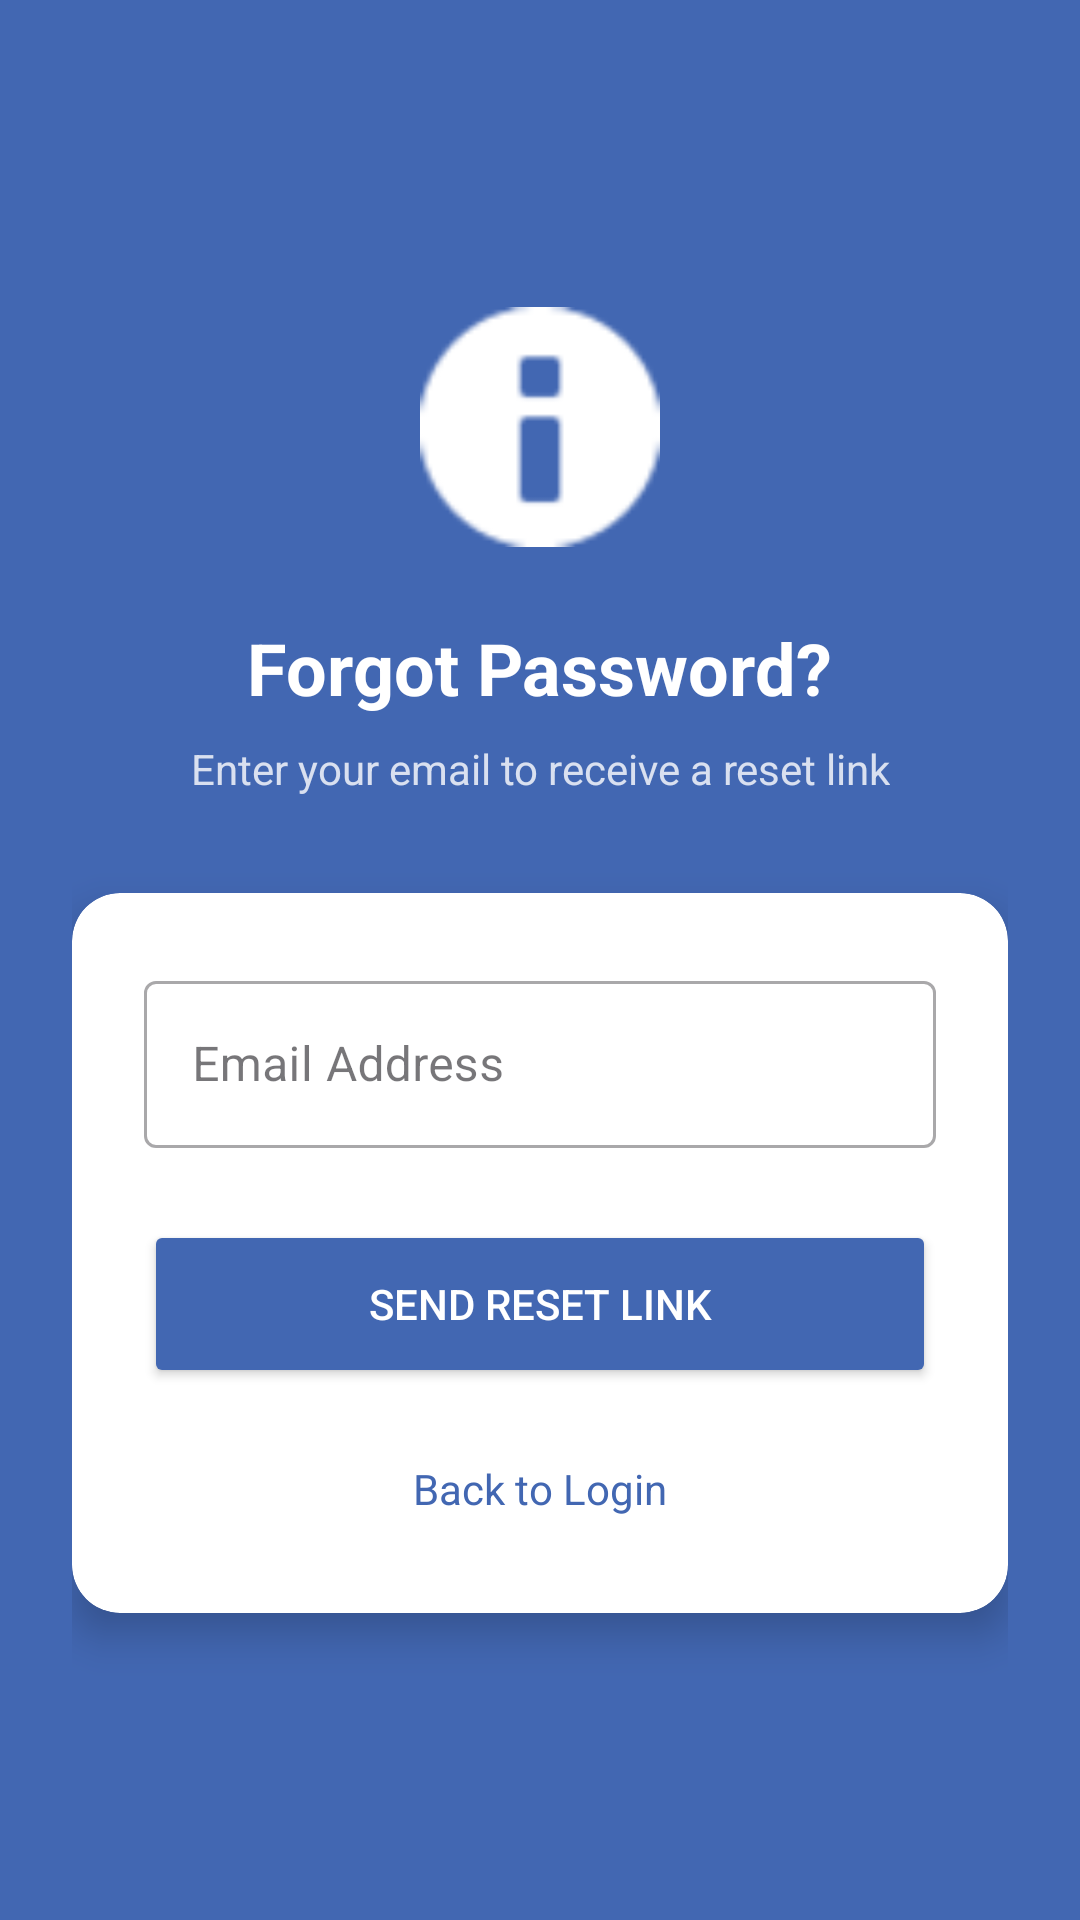

Named icons in this screenshot (1080×1920) and their centers, (x=x, y=y):
info: (x=540, y=427)
